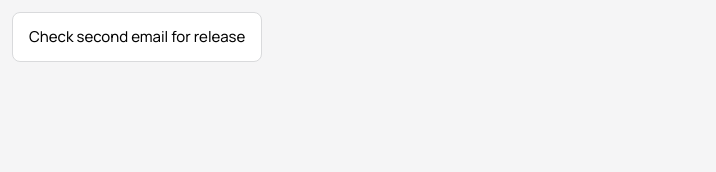
Test case: explicit review uses step two and never starts or renews authority automatically
Click the button "Check second email for release" at (137, 37), box 12,12 -> 262,62
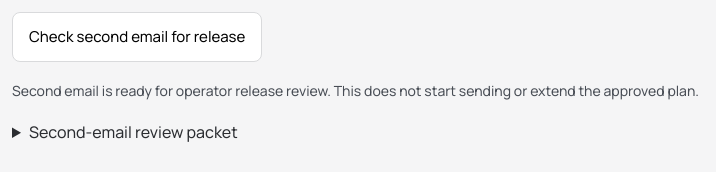
Result: the text "does not start sending" is shown at 331,81 -> 699,100
Result: the text "Second-email review packet" is shown at 29,121 -> 238,143
